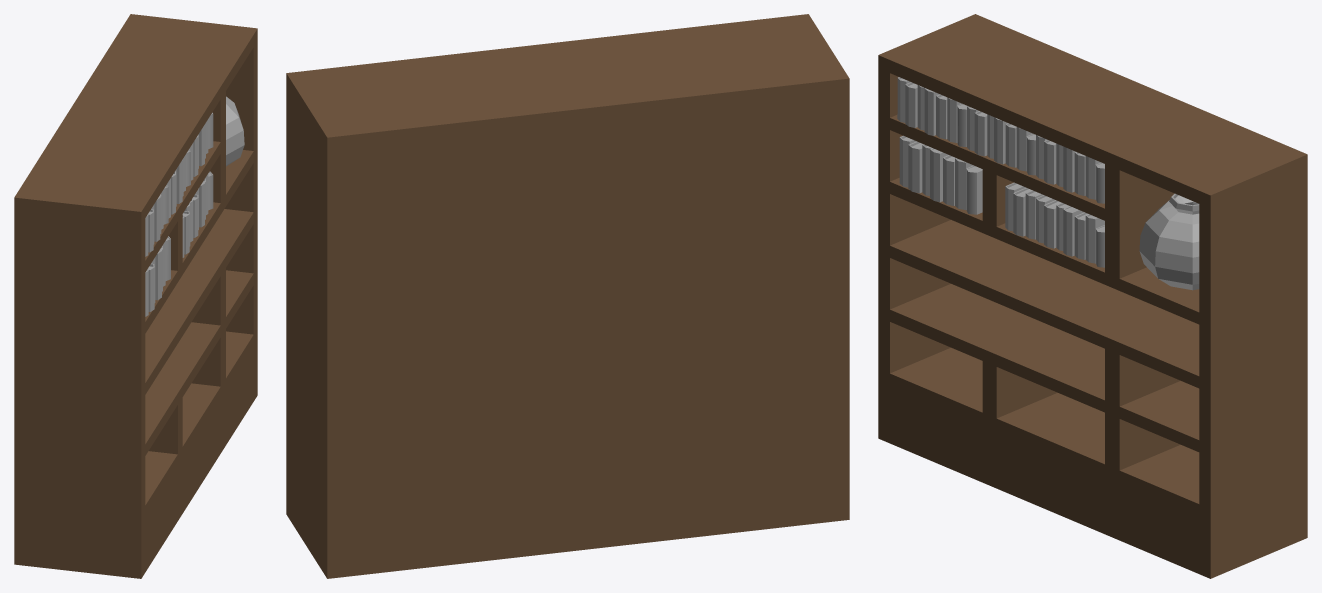
The model's file is Librero 01.fbx.
3 views of the same model, side by side, from view 1: azimuth 30°, elevation 25°; view 2: azimuth 150°, elevation 25°; view 3: azimuth 270°, elevation 25° (orthographic). The views are drawn at different scales.
Visible parts, largest first — view 1: Librero_01, Conjunto_Libros_02 (×2), Conjunto_Libros_05 (×2), Vasija_Cristal, Conjunto_Libros_01 (×2), Conjunto_Libros_04 (×2), Conjunto_Libros_03, Conjunto_Libros_06; view 2: Librero_01; view 3: Librero_01, Vasija_Cristal, Conjunto_Libros_02 (×2), Conjunto_Libros_05 (×2), Conjunto_Libros_01 (×2), Conjunto_Libros_04 (×2), Conjunto_Libros_06 (×2), Conjunto_Libros_03.
Boxes of the visible parts, box(x1,y1,x2,y2) form: Librero_01: box(14, 14, 257, 578); Conjunto_Libros_02 (×2): box(154, 185, 170, 300); Conjunto_Libros_05 (×2): box(199, 112, 213, 227); Vasija_Cristal: box(226, 96, 244, 166); Conjunto_Libros_01 (×2): box(145, 204, 155, 316); Conjunto_Libros_04 (×2): box(167, 169, 190, 257); Conjunto_Libros_03: box(176, 149, 190, 203); Conjunto_Libros_06: box(189, 188, 198, 241); Librero_01: box(286, 14, 849, 578); Librero_01: box(878, 14, 1307, 578); Vasija_Cristal: box(1139, 193, 1199, 290); Conjunto_Libros_02 (×2): box(924, 88, 982, 214); Conjunto_Libros_05 (×2): box(1063, 146, 1104, 267); Conjunto_Libros_01 (×2): box(897, 77, 932, 195); Conjunto_Libros_04 (×2): box(967, 106, 1042, 239); Conjunto_Libros_06 (×2): box(1036, 135, 1069, 250); Conjunto_Libros_03: box(994, 117, 1035, 175).
Size of the model in its own units: 189 by 186 by 189.
